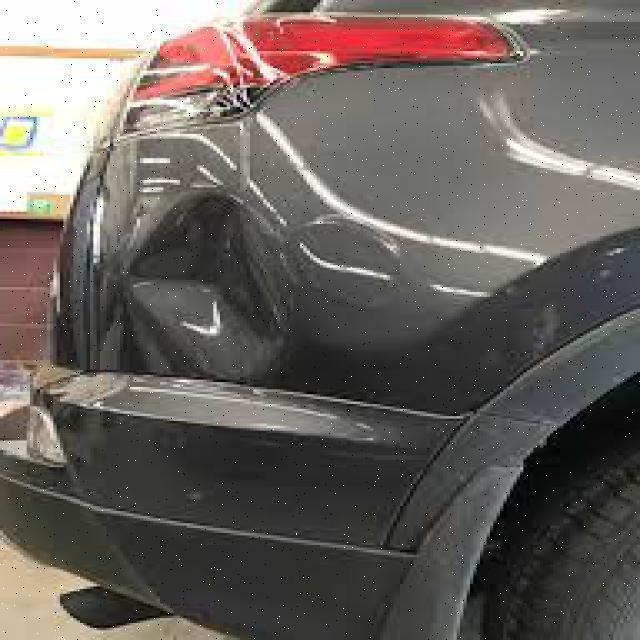quaterpanel-dent: (0, 64, 637, 462)
